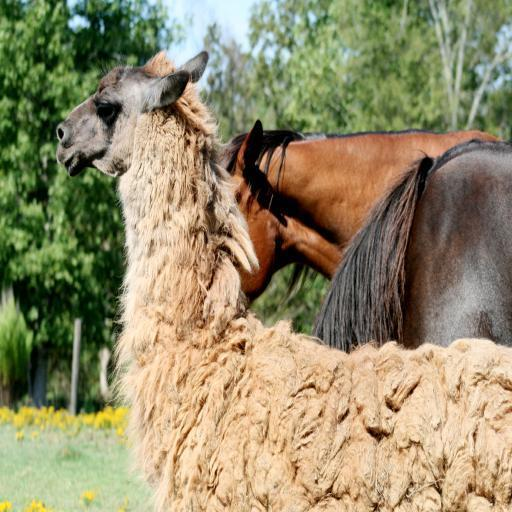horse: (219, 114, 503, 306), (314, 139, 512, 347)
